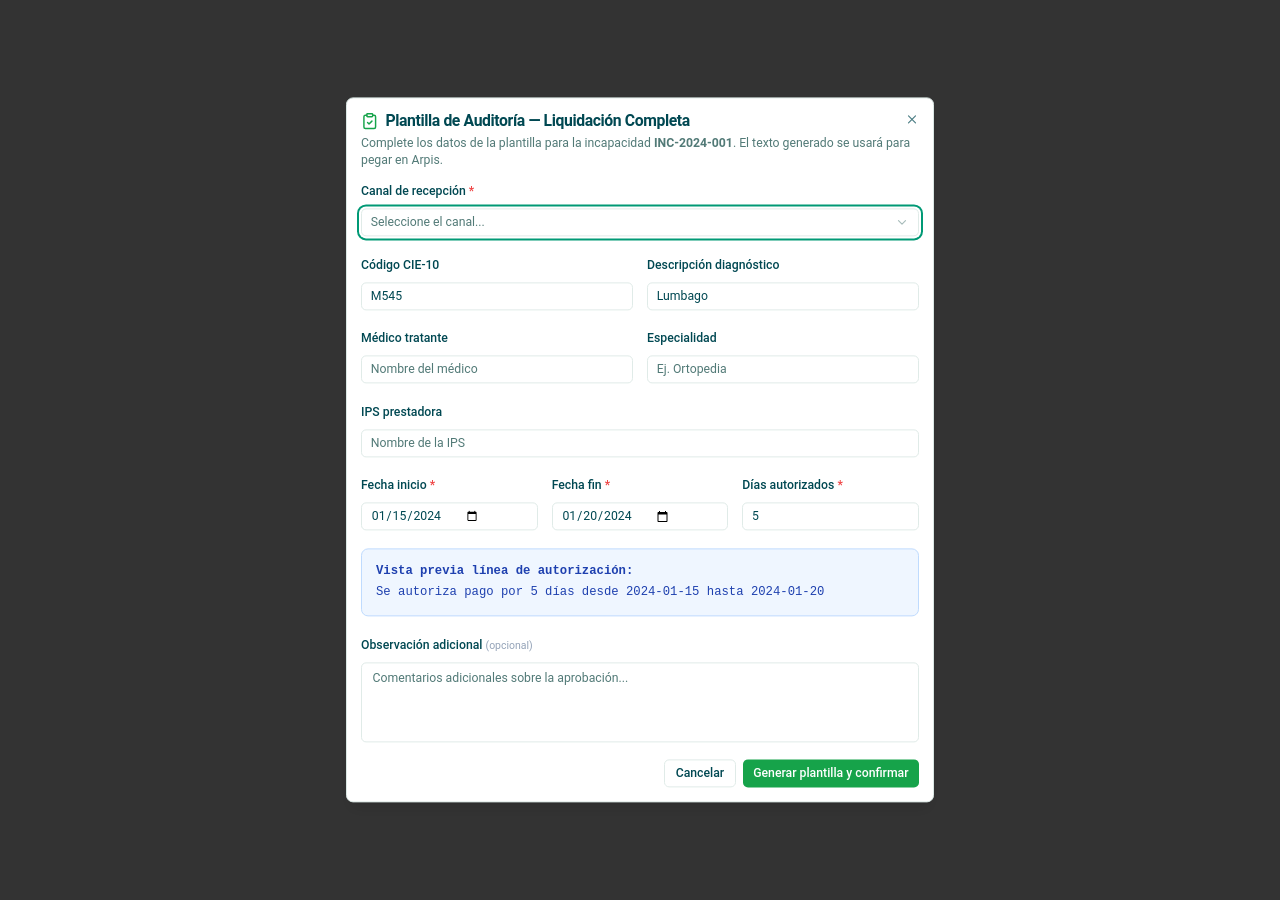
Test: AuditorApprovalTemplateModal › updates linea_autorizacion when dias_autorizados changes
This screenshot has width=1280, height=900.
Clear the number field labelled "Días autorizados *": [831, 517] box 742,503 -> 919,531
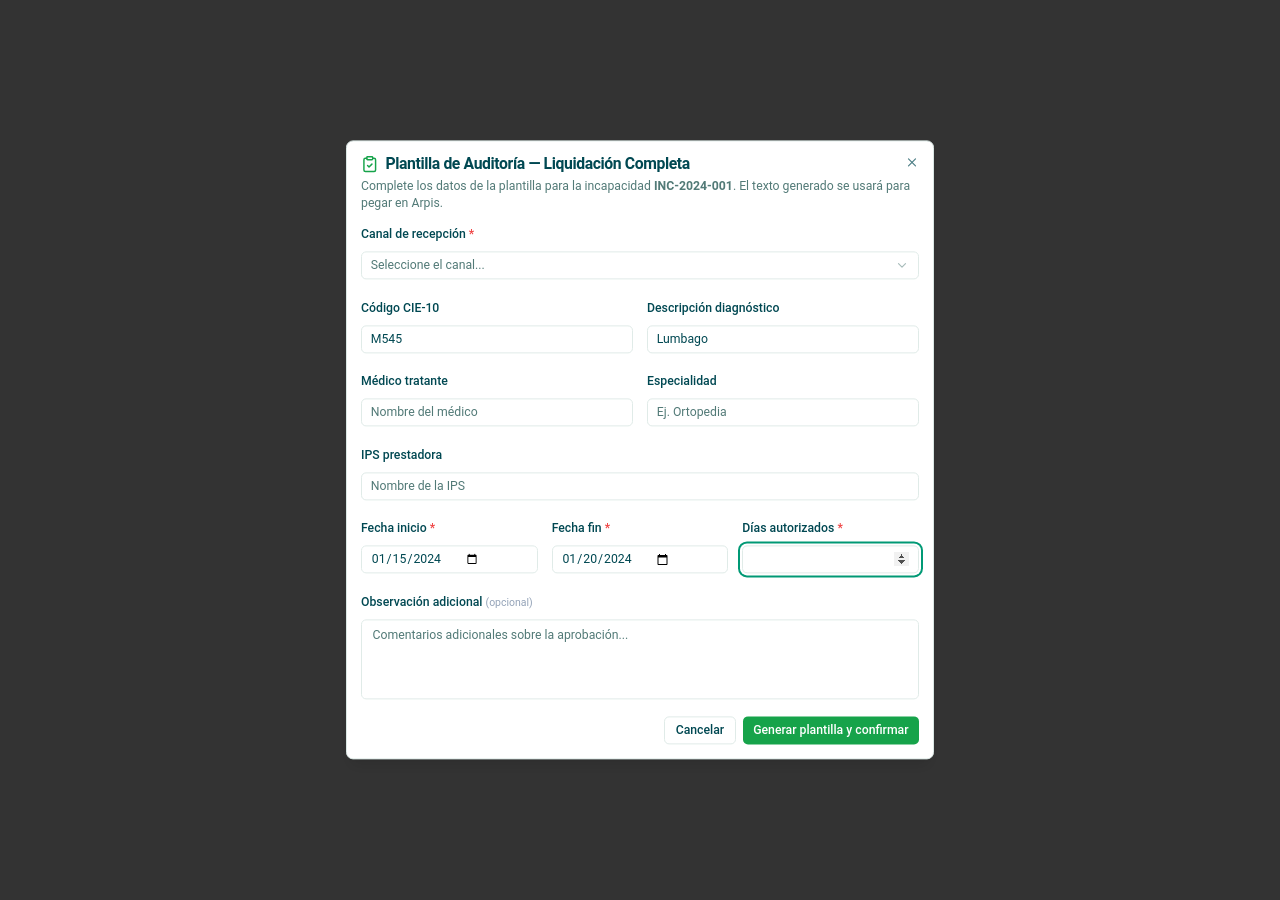
In the number field labelled "Días autorizados *": [831, 560] box 742,546 -> 919,574, type "10"
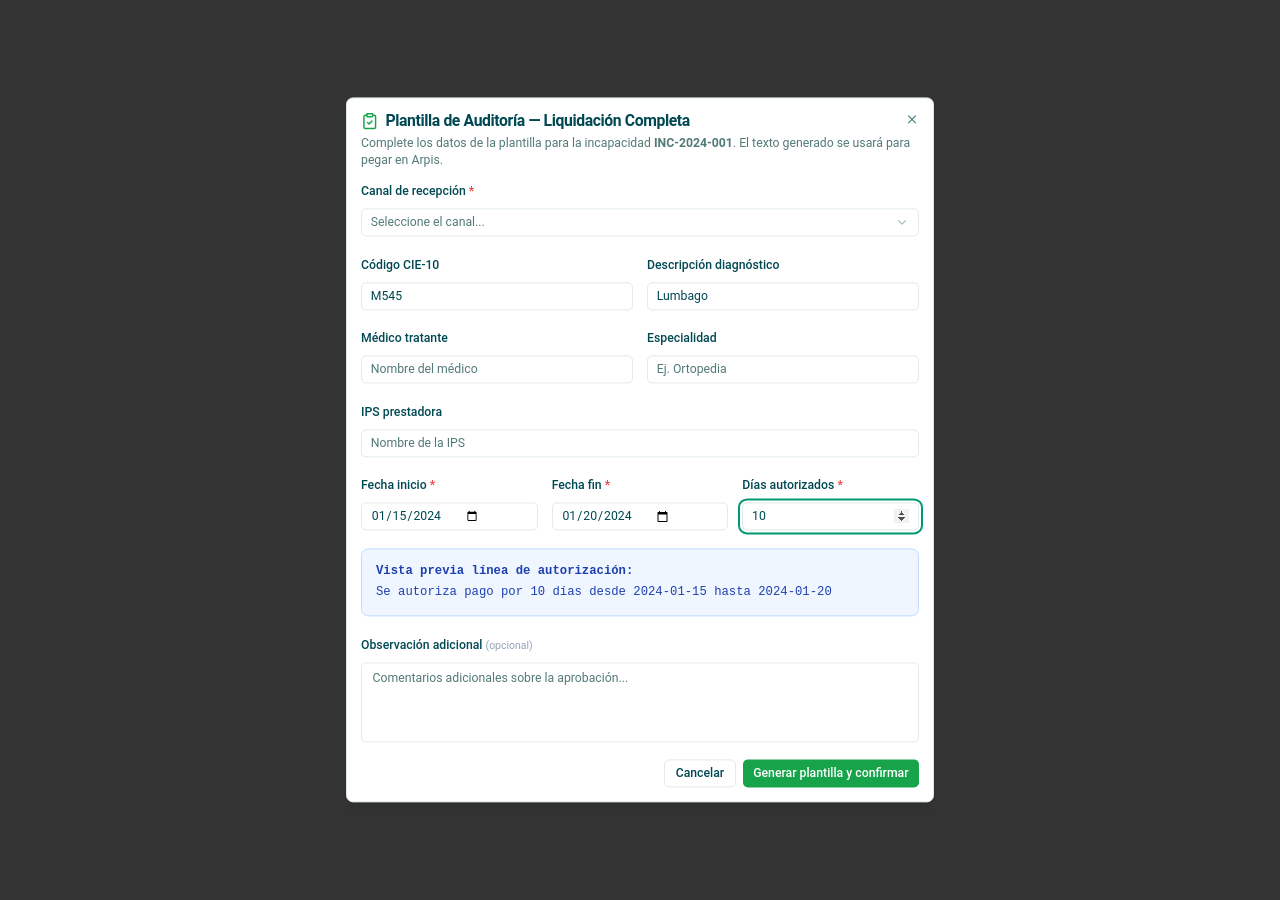
Check: the text "Se autoriza pago por 10 días" is shown, box 376,585 -> 832,599
